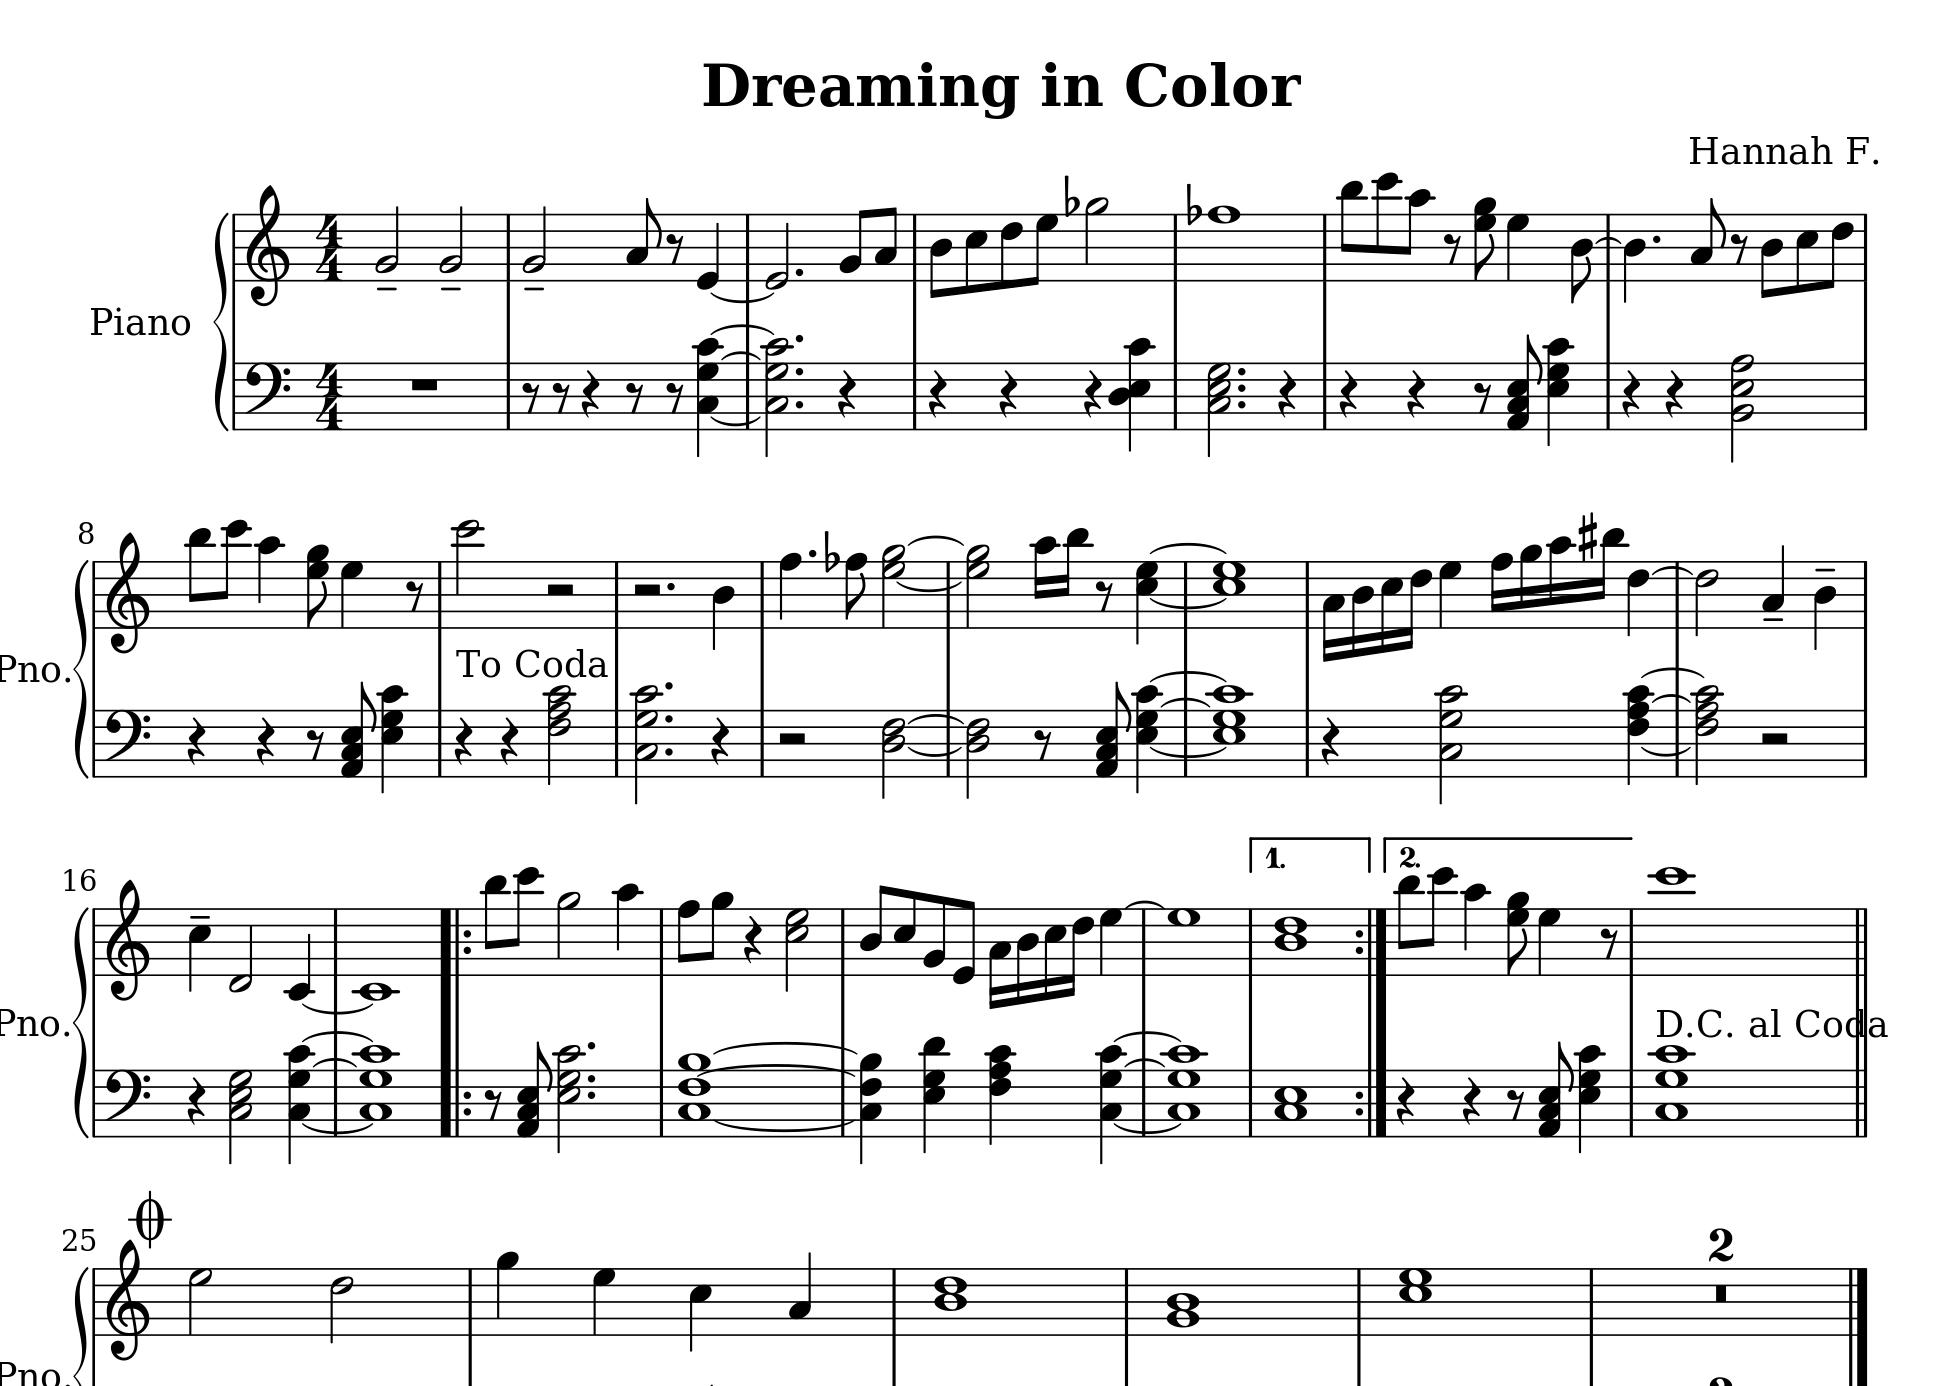1: (61, 865, 76, 892)
16_10: (1032, 532, 1057, 630), (1548, 534, 1572, 630)
16_11: (1591, 523, 1626, 631), (1059, 525, 1089, 630)
16_3: (987, 906, 1011, 1011), (1321, 559, 1345, 661)
16_4: (1350, 559, 1375, 658), (1015, 907, 1039, 1005)
16_5: (1380, 558, 1404, 652), (1042, 906, 1066, 1000)
16_6: (1402, 558, 1434, 649), (1065, 906, 1095, 997)
16_8: (1488, 550, 1513, 630)
16_9: (1518, 543, 1542, 630)
1_-2: (354, 906, 394, 1003)
1_12: (1650, 865, 1692, 979)
1_2_4: (1167, 1267, 1203, 1336)
1_3_5: (1275, 1068, 1308, 1140)
1_4_6: (933, 1266, 967, 1336), (1275, 906, 1306, 976)
1_5_7: (1210, 559, 1251, 630), (1398, 1266, 1435, 1336)
1_7: (1167, 906, 1201, 976)
1_8: (1207, 202, 1242, 283)
1_th: (1647, 1039, 1695, 1137), (1159, 1044, 1209, 1138), (354, 1042, 399, 1138), (1209, 682, 1254, 775), (676, 1050, 711, 1135)
2: (60, 1225, 79, 1252)
2_-1: (226, 904, 255, 994)
2_0: (762, 211, 792, 291)
2_12: (453, 517, 483, 630)
2_2: (520, 202, 549, 282), (436, 202, 465, 280), (373, 202, 400, 280)
2_4_6: (964, 709, 993, 799), (880, 706, 907, 801)
2_6: (328, 1266, 352, 1345), (1695, 559, 1719, 634)
2_7: (186, 1266, 211, 1336)
2_7_9: (880, 541, 907, 630), (964, 543, 990, 628)
2_9: (553, 889, 582, 978), (1083, 195, 1110, 283)
2_th: (1435, 684, 1467, 802), (631, 676, 660, 805), (543, 679, 574, 786), (1693, 682, 1725, 783), (1728, 351, 1756, 462), (1206, 360, 1233, 457)
4: (313, 360, 345, 396), (313, 247, 346, 280), (313, 211, 345, 246), (313, 394, 343, 429)
4_-2: (283, 904, 313, 1002)
4_0: (696, 211, 721, 292)
4_10: (255, 532, 282, 631), (613, 880, 640, 978), (1462, 880, 1488, 976)
4_3: (787, 1249, 813, 1336), (1761, 544, 1786, 628)
4_4: (709, 559, 736, 651), (1621, 211, 1647, 303), (1812, 559, 1837, 649)
4_5: (184, 906, 213, 993), (687, 1266, 712, 1353)
4_5_7: (1135, 559, 1162, 643)
4_6: (1626, 559, 1650, 637)
4_7: (337, 559, 364, 630), (589, 1266, 616, 1336), (1536, 906, 1561, 976), (1437, 559, 1462, 628), (1506, 211, 1530, 282), (1098, 907, 1122, 976)
4_8: (775, 550, 802, 631)
4_9: (495, 1249, 519, 1336)
4_th: (1107, 334, 1156, 453), (1093, 1042, 1128, 1162), (918, 1030, 949, 1155), (283, 1042, 313, 1165), (376, 682, 409, 793), (1542, 334, 1575, 442), (1575, 1042, 1606, 1152), (984, 1041, 1015, 1147), (1131, 684, 1159, 789), (858, 1050, 883, 1162), (1623, 684, 1651, 784)
5: (79, 1224, 97, 1252)
6: (79, 865, 96, 892)
8: (76, 517, 94, 544)
8_0: (951, 897, 976, 985)
8_10: (1401, 186, 1431, 283)
8_11: (1338, 177, 1366, 282), (186, 525, 213, 630), (481, 871, 508, 976), (1396, 871, 1422, 978)
8_12: (217, 517, 250, 630), (508, 864, 541, 976), (1425, 865, 1456, 978), (1374, 169, 1401, 282)
8_2: (837, 207, 868, 282), (921, 892, 946, 979)
8_3: (624, 196, 661, 283), (1689, 195, 1725, 282), (873, 205, 898, 283)
8_4: (858, 883, 889, 976), (1758, 211, 1785, 300), (1569, 211, 1594, 304), (928, 211, 952, 298)
8_5: (892, 886, 916, 976), (963, 211, 988, 295), (1794, 211, 1819, 292)
8_6: (1825, 211, 1855, 289), (999, 211, 1023, 289)
8_7: (1027, 211, 1059, 286)
8_7_9: (1473, 195, 1497, 285)
8_8: (843, 550, 868, 631), (676, 898, 700, 978)
8_9: (702, 889, 733, 976)
8_th: (1537, 1039, 1576, 1140), (1506, 333, 1545, 430), (1095, 679, 1132, 778), (340, 679, 376, 778), (517, 1039, 553, 1138), (553, 1042, 583, 1150)
Brace: (70, 556, 90, 780), (211, 208, 229, 433)
Coda: (127, 1186, 172, 1246)
Double_barline: (1849, 907, 1873, 975), (1848, 1069, 1872, 1137)
Fclef: (241, 360, 292, 430), (103, 706, 151, 778), (103, 1066, 151, 1138)
Final_barline: (1845, 1267, 1872, 1333)
Flat: (1185, 181, 1203, 228), (1063, 172, 1080, 219), (823, 528, 840, 574)
Gclef: (103, 876, 151, 1002), (244, 181, 291, 307), (105, 529, 151, 654), (103, 1237, 150, 1362)
LeftRepeatSign: (436, 907, 474, 975), (436, 1068, 472, 1137)
Pno: (87, 304, 193, 337), (1, 1005, 61, 1041), (1, 651, 61, 684), (1, 1357, 61, 1386)
Prima_volta: (1243, 832, 1377, 874)
Rests1: (406, 373, 441, 393)
Rests2: (543, 580, 579, 601), (628, 580, 664, 601), (774, 727, 810, 748), (1758, 729, 1792, 748)
Rests4: (1336, 367, 1362, 421), (1080, 367, 1104, 421), (1275, 367, 1299, 421), (1620, 367, 1644, 421), (925, 367, 949, 420), (1404, 367, 1428, 420), (451, 715, 475, 768), (708, 715, 732, 768), (184, 715, 208, 766), (835, 367, 858, 421), (997, 367, 1020, 421), (741, 913, 763, 967), (579, 367, 601, 420), (1663, 367, 1686, 420), (253, 715, 276, 768), (496, 715, 519, 768), (1395, 1075, 1417, 1128), (184, 1075, 207, 1126), (1320, 715, 1341, 768), (1461, 1075, 1482, 1126)
Rests8: (664, 231, 685, 267), (664, 379, 685, 415), (1473, 379, 1494, 415), (403, 577, 424, 613), (1095, 577, 1116, 613), (1599, 925, 1620, 961), (1032, 727, 1054, 760), (1443, 231, 1464, 265), (520, 379, 541, 414), (550, 379, 571, 414), (624, 379, 645, 414), (304, 727, 325, 762), (483, 1087, 504, 1122), (1506, 1087, 1527, 1122), (1731, 231, 1750, 265)
RightRepeatSign: (1353, 907, 1392, 975), (1353, 1069, 1390, 1135)
Seconda_volta: (1380, 835, 1632, 871)
Sharp: (1576, 510, 1599, 562)
Single_barline: (1579, 1267, 1603, 1335), (738, 211, 756, 291), (460, 1267, 481, 1335), (652, 907, 672, 975), (1350, 1267, 1369, 1335), (1242, 1069, 1261, 1135), (499, 213, 517, 280), (940, 561, 958, 628), (1299, 561, 1317, 628), (1242, 907, 1260, 975), (1119, 1267, 1137, 1335), (1167, 214, 1185, 280), (1167, 361, 1185, 427), (607, 561, 625, 627), (754, 561, 772, 627), (753, 709, 771, 775), (1299, 709, 1317, 775), (430, 709, 448, 775), (1135, 909, 1153, 975), (1623, 909, 1641, 975), (652, 1069, 670, 1135), (1623, 1069, 1641, 1135), (1176, 562, 1194, 627), (607, 711, 625, 775), (1857, 559, 1873, 628), (834, 907, 850, 976), (1135, 1071, 1153, 1134), (1317, 213, 1333, 280), (1317, 361, 1333, 429), (1855, 709, 1872, 777), (327, 907, 343, 975), (885, 1267, 901, 1335), (499, 361, 516, 427), (432, 561, 448, 627), (1671, 567, 1687, 631), (942, 712, 958, 775), (907, 213, 922, 280), (907, 361, 922, 429), (1602, 361, 1617, 429), (1857, 363, 1872, 429), (1860, 213, 1873, 282), (228, 213, 241, 280), (328, 1072, 343, 1132), (88, 1069, 102, 1135), (88, 559, 100, 628), (88, 1267, 100, 1336), (229, 361, 241, 429), (88, 907, 100, 975), (88, 709, 100, 775)
Slur: (70, 907, 90, 1137), (1149, 541, 1227, 556), (1149, 669, 1230, 682), (1153, 595, 1224, 610), (1149, 745, 1227, 757), (300, 1002, 375, 1014), (709, 322, 775, 336), (1641, 666, 1707, 679), (907, 532, 964, 547), (301, 1120, 372, 1132), (895, 580, 964, 592), (1113, 1030, 1182, 1042), (1113, 1120, 1179, 1132), (907, 712, 964, 726), (303, 1030, 373, 1041), (708, 292, 777, 303), (1651, 562, 1695, 577), (904, 745, 961, 756), (1639, 745, 1693, 756), (709, 414, 762, 424), (1164, 696, 1207, 708), (721, 349, 760, 361), (1125, 898, 1164, 910), (1653, 691, 1690, 703), (313, 1056, 355, 1066), (1125, 1057, 1167, 1068), (1596, 235, 1623, 244)
TimeSig: (313, 213, 349, 280), (313, 361, 346, 430)
ToCoda: (453, 645, 607, 682)
dot: (790, 331, 805, 346), (1236, 363, 1249, 378), (792, 364, 807, 378), (663, 579, 678, 592), (661, 711, 676, 724), (583, 1039, 598, 1053), (805, 546, 819, 559), (661, 679, 675, 693), (585, 1071, 598, 1084), (792, 265, 805, 277), (792, 397, 805, 409), (663, 744, 675, 757), (583, 1087, 597, 1099), (1650, 232, 1662, 244), (1236, 382, 1248, 394), (1236, 397, 1248, 409)
